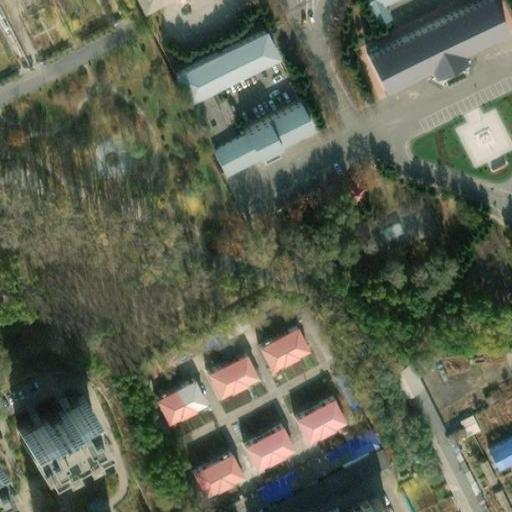building: (386, 360, 482, 512), (242, 426, 370, 505), (168, 28, 274, 105), (212, 105, 307, 175), (13, 403, 95, 468), (196, 350, 258, 408), (250, 324, 307, 381), (149, 376, 207, 432), (233, 422, 290, 470), (220, 397, 276, 444), (287, 396, 339, 443), (186, 448, 237, 494), (173, 423, 224, 468), (274, 372, 323, 416), (477, 417, 512, 470), (318, 486, 384, 512), (184, 94, 221, 134), (444, 410, 484, 444), (360, 0, 388, 26)
